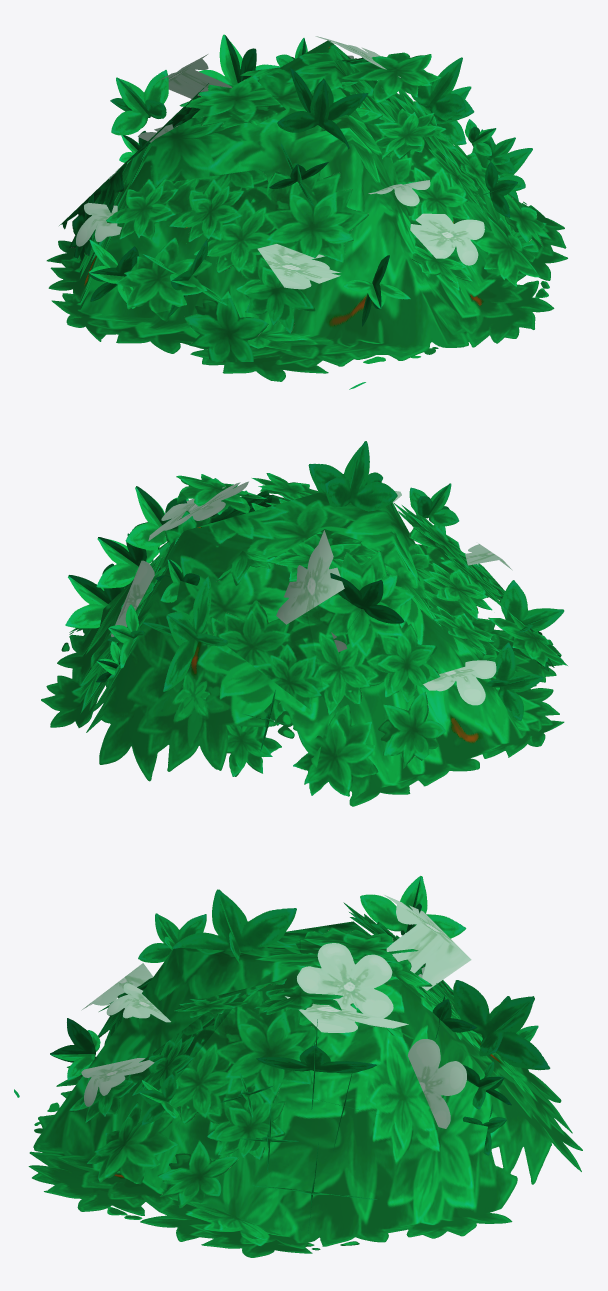
File: 2_Arbusto_Verde_Oscuro_LOD_1.fbx
The picture shows the model from 3 angles, top to bottom: view 1: azimuth 30°, elevation 25°; view 2: azimuth 150°, elevation 25°; view 3: azimuth 270°, elevation 25°; orthographic projection. The views are drawn at different scales.
Visible parts, largest first — view 1: 2_Arbusto_Verde_Oscuro_LOD_1; view 2: 2_Arbusto_Verde_Oscuro_LOD_1; view 3: 2_Arbusto_Verde_Oscuro_LOD_1.
Boxes of the visible parts, <box> form: 2_Arbusto_Verde_Oscuro_LOD_1: <box>46,34,567,389</box>; 2_Arbusto_Verde_Oscuro_LOD_1: <box>41,441,567,806</box>; 2_Arbusto_Verde_Oscuro_LOD_1: <box>14,876,582,1257</box>.
Bounding box in the file's own units: 354 × 193 × 340.
